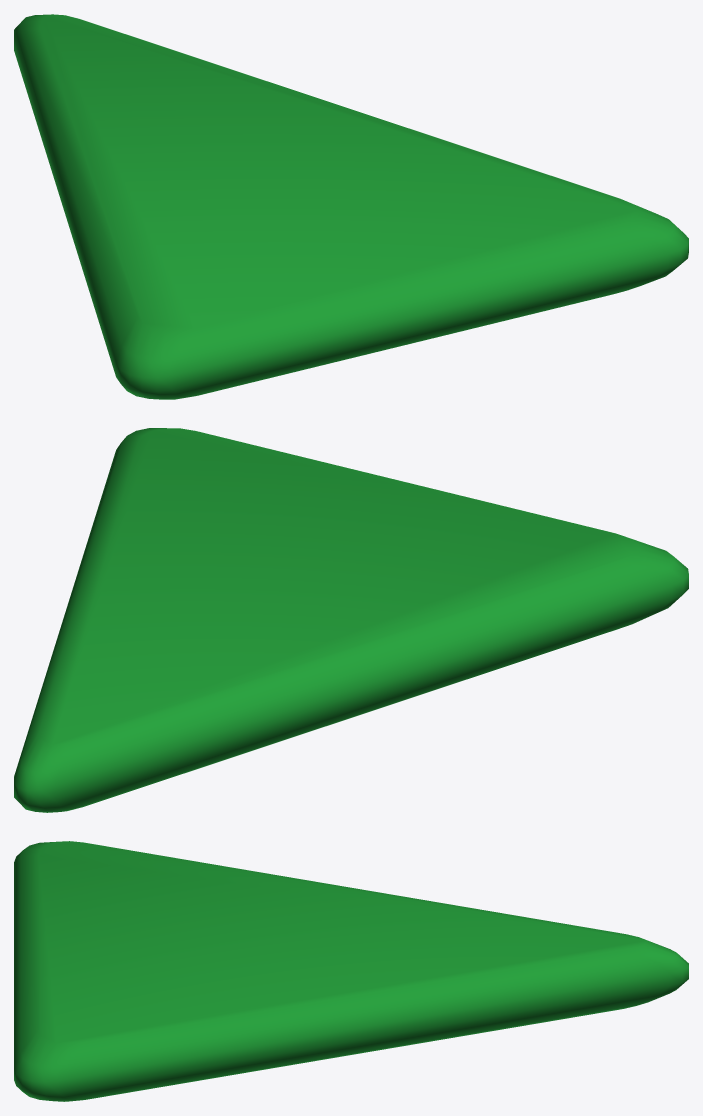
Rendered from Arrow.glb.
3 renders of one model, top to bottom at view 1: azimuth 30°, elevation 25°; view 2: azimuth 150°, elevation 25°; view 3: azimuth 270°, elevation 25°, orthographic. The views are drawn at different scales.
Visible parts, largest first — view 1: Plane; view 2: Plane; view 3: Plane.
Boxes of the visible parts, <box> form: Plane: <box>14,14,688,399</box>; Plane: <box>14,428,688,812</box>; Plane: <box>14,841,688,1101</box>.
Bounding box in the file's own units: 4.33 × 0.5 × 5.3.
